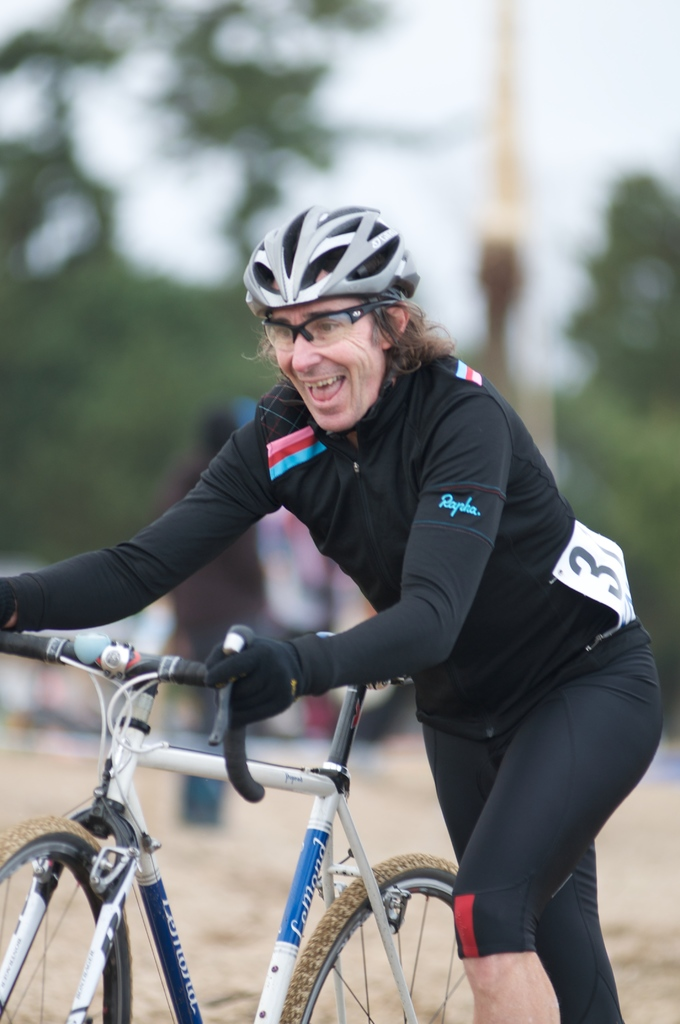Bike_toward: (2, 615, 494, 1019)
